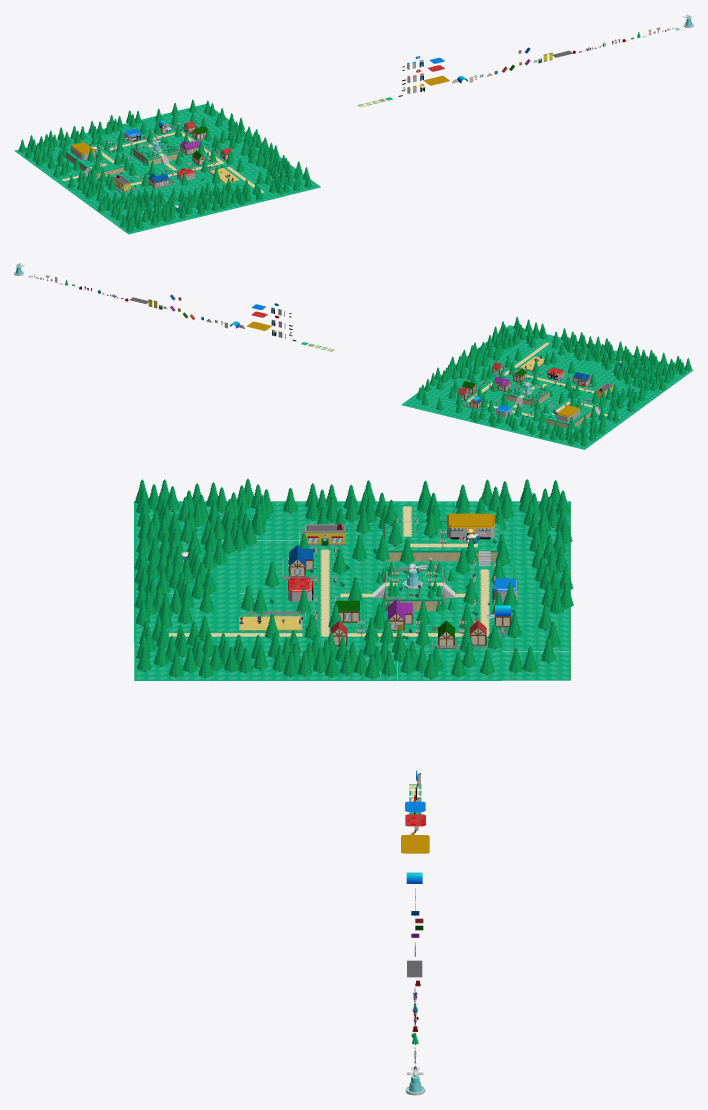
Rendered from original_pokemon_village.glb.
3 views of the same model, one above another, from view 1: azimuth 30°, elevation 25°; view 2: azimuth 150°, elevation 25°; view 3: azimuth 270°, elevation 25° (orthographic). The views are drawn at different scales.
Visible parts, largest first — view 1: Object_5, Object_4, Object_3, Object_24, Object_23, Object_21, Object_22, Object_26, Object_16, Object_17, Object_15, Object_20 (+5 smaller); view 2: Object_5, Object_4, Object_3, Object_21, Object_22, Object_24, Object_20, Object_23, Object_26, Object_17, Object_15, Object_25 (+5 smaller); view 3: Object_5, Object_3, Object_4, Object_26, Object_23, Object_20, Object_22, Object_25, Object_24, Object_16, Object_21, Object_18 (+7 smaller).
Part boxes in pixels (x1,y1,x2,y2): Object_5: (14, 97, 392, 234); Object_4: (64, 47, 581, 190); Object_3: (116, 50, 575, 224); Object_24: (18, 99, 257, 195); Object_23: (46, 17, 693, 201); Object_21: (38, 32, 640, 208); Object_22: (33, 113, 274, 190); Object_26: (57, 100, 310, 198); Object_16: (130, 137, 276, 228); Object_17: (120, 121, 219, 232); Object_15: (103, 183, 237, 214); Object_20: (62, 113, 219, 207); Object_5: (301, 325, 693, 449); Object_4: (121, 294, 612, 429); Object_3: (125, 298, 650, 417); Object_21: (65, 279, 632, 441); Object_22: (430, 342, 634, 440); Object_24: (421, 352, 639, 446); Object_20: (448, 351, 643, 429); Object_23: (14, 265, 646, 435); Object_26: (416, 321, 645, 438); Object_17: (477, 341, 691, 407); Object_15: (567, 335, 657, 391); Object_25: (463, 319, 559, 431); Object_5: (134, 501, 570, 814); Object_3: (134, 524, 517, 986); Object_4: (239, 513, 510, 991); Object_26: (145, 483, 572, 677); Object_23: (137, 487, 573, 1095); Object_20: (187, 504, 521, 649); Object_22: (272, 479, 558, 678); Object_25: (136, 535, 557, 677); Object_24: (316, 479, 570, 674); Object_16: (134, 484, 442, 646); Object_21: (200, 480, 570, 1044); Object_18: (348, 499, 505, 653).
Bounding box in the file's own units: 354 × 20.63 × 111.
28 materials, 26 textured.
